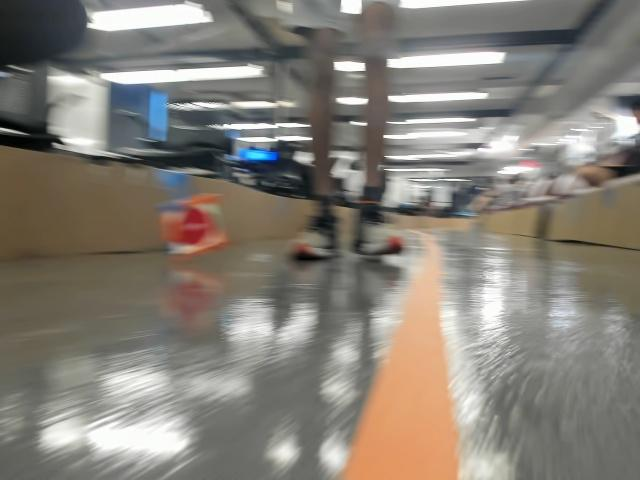Stop: (173, 212, 208, 248)
